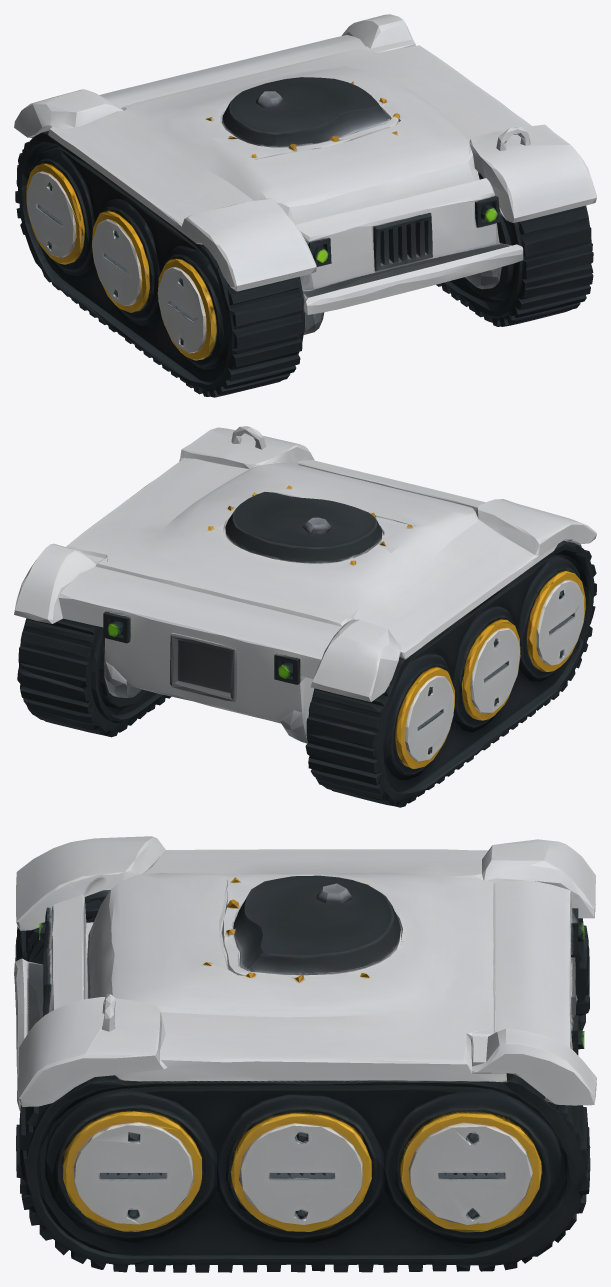
The model's file is chassis_candidate.glb.
3 views of the same model, one above another, from view 1: azimuth 30°, elevation 25°; view 2: azimuth 150°, elevation 25°; view 3: azimuth 270°, elevation 25° (orthographic). The views are drawn at different scales.
Parts seen in each view (by area): view 1: model; view 2: model; view 3: model.
Boxes of the visible parts, x1,y1,x2,y2 form: model: [14, 14, 596, 397]; model: [14, 426, 596, 807]; model: [14, 836, 596, 1272].
Bounding box in the file's own units: 1.85 × 0.9262 × 1.9.
1 material, 1 textured.
